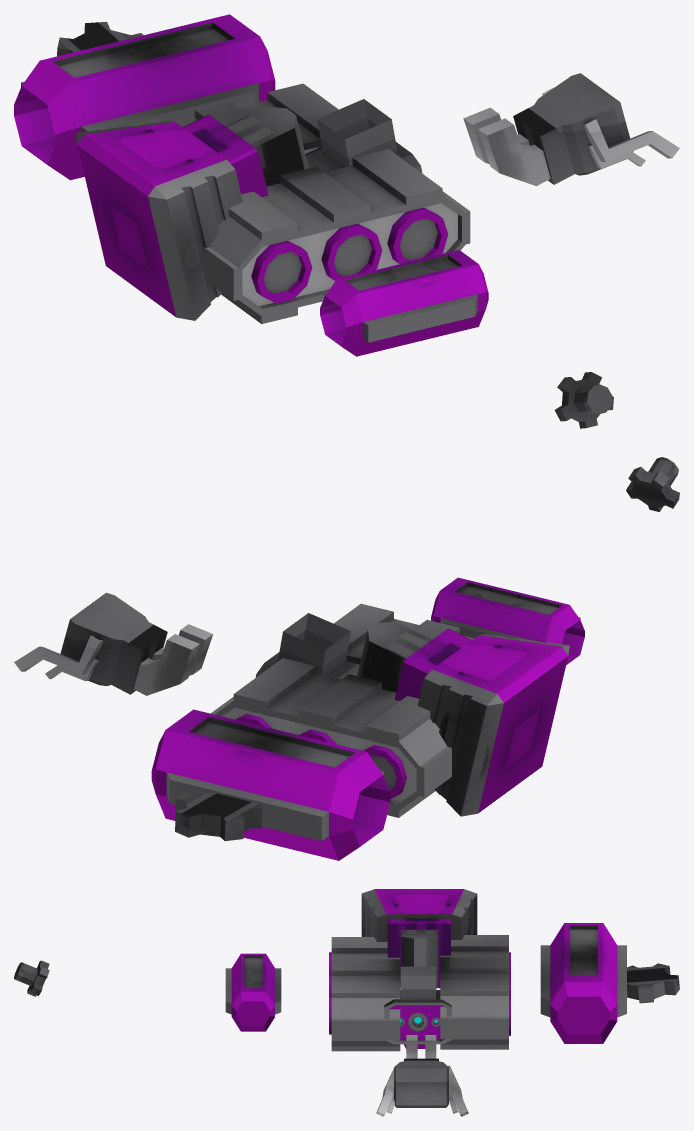
File: Enemy2_Die29.obj
3 views of the same model, one above another, from view 1: azimuth 30°, elevation 25°; view 2: azimuth 150°, elevation 25°; view 3: azimuth 270°, elevation 25° (orthographic). The views are drawn at different scales.
Visible parts, largest first — view 1: Object006, Object013, Object011, Object010, Object014, Object012, Object008, Object009; view 2: Object013, Object011, Object006, Object010, Object014, Object012, Object009, Object008; view 3: Object006, Object011, Object013, Object010, Object014, Object012, Object009, Object008.
Part boxes in pixels (left/top/right/bottom): Object006: left=130, top=83, right=470, bottom=323; Object013: left=75, top=106, right=308, bottom=320; Object011: left=14, top=14, right=275, bottom=180; Object010: left=463, top=73, right=679, bottom=186; Object014: left=320, top=250, right=488, bottom=356; Object012: left=305, top=99, right=422, bottom=172; Object008: left=554, top=372, right=613, bottom=428; Object009: left=57, top=21, right=143, bottom=56; Object013: left=357, top=621, right=569, bottom=816; Object011: left=151, top=709, right=390, bottom=860; Object006: left=210, top=603, right=473, bottom=817; Object010: left=14, top=592, right=212, bottom=695; Object014: left=431, top=577, right=584, bottom=664; Object012: left=255, top=613, right=359, bottom=679; Object009: left=175, top=792, right=262, bottom=840; Object008: left=626, top=457, right=679, bottom=511; Object006: left=329, top=935, right=510, bottom=1051; Object011: left=540, top=923, right=626, bottom=1043; Object013: left=361, top=889, right=477, bottom=988; Object010: left=376, top=1035, right=468, bottom=1116; Object014: left=225, top=953, right=281, bottom=1031; Object012: left=384, top=966, right=451, bottom=1048; Object009: left=627, top=963, right=679, bottom=1003; Object008: left=14, top=960, right=49, bottom=996.
Bounding box in the file's own units: 197 × 51.7 × 333.
